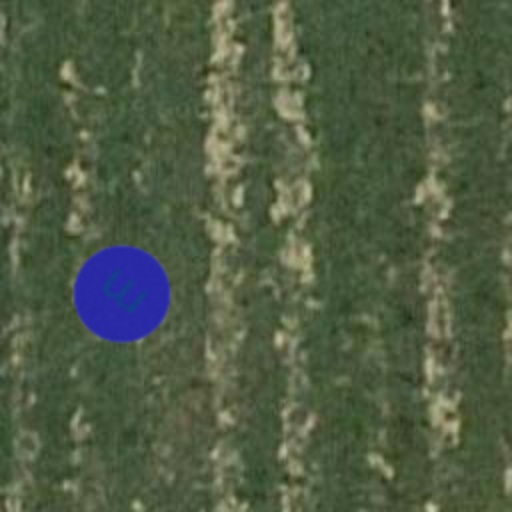circle: (52, 224, 192, 364)
